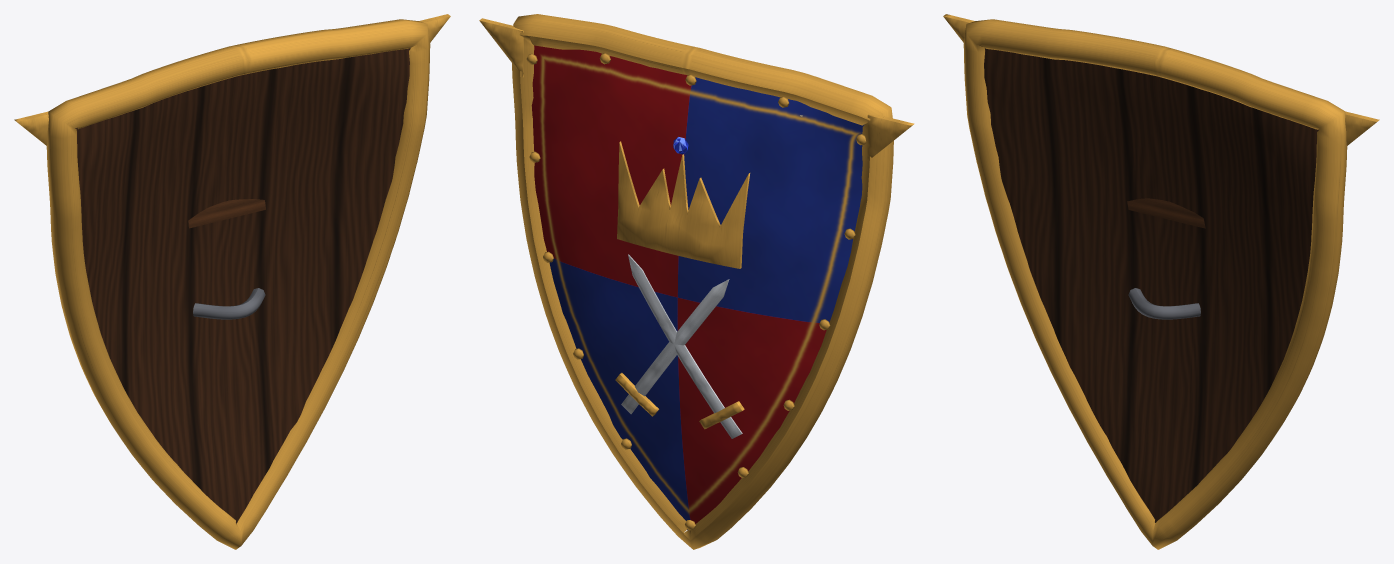
The model's file is KingsguardRoyalShield.glb.
3 views of the same model, side by side, from view 1: azimuth 30°, elevation 25°; view 2: azimuth 150°, elevation 25°; view 3: azimuth 330°, elevation 25° (orthographic).
Visible parts, largest first — view 1: KingsguardRoyalShield; view 2: KingsguardRoyalShield; view 3: KingsguardRoyalShield.
Boxes of the visible parts, box(x1,y1,x2,y2) form: KingsguardRoyalShield: box(14, 14, 450, 549); KingsguardRoyalShield: box(479, 14, 914, 549); KingsguardRoyalShield: box(943, 14, 1379, 549).
Size of the model in its own units: 2.46 by 2.72 by 0.3583.
1 material, 1 textured.
